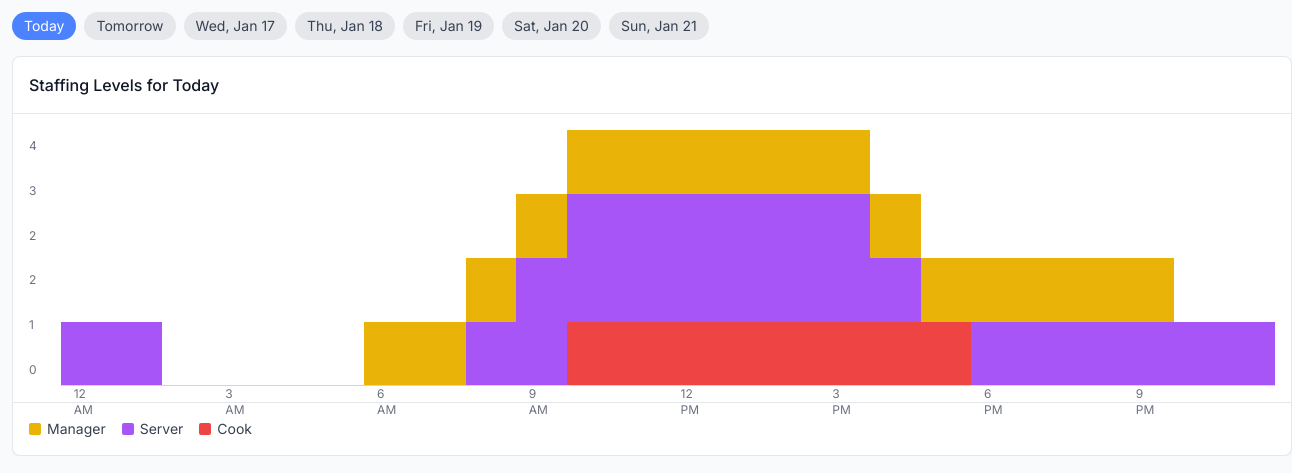
StaffingLevelsView Component › Tooltip Interactions › should show tooltip on hover with hour and role breakdown
This screenshot has width=1292, height=473.
Note: Hover over the segment
Hover over the 12th element with class "relative": (592, 258) [567, 130, 617, 386]
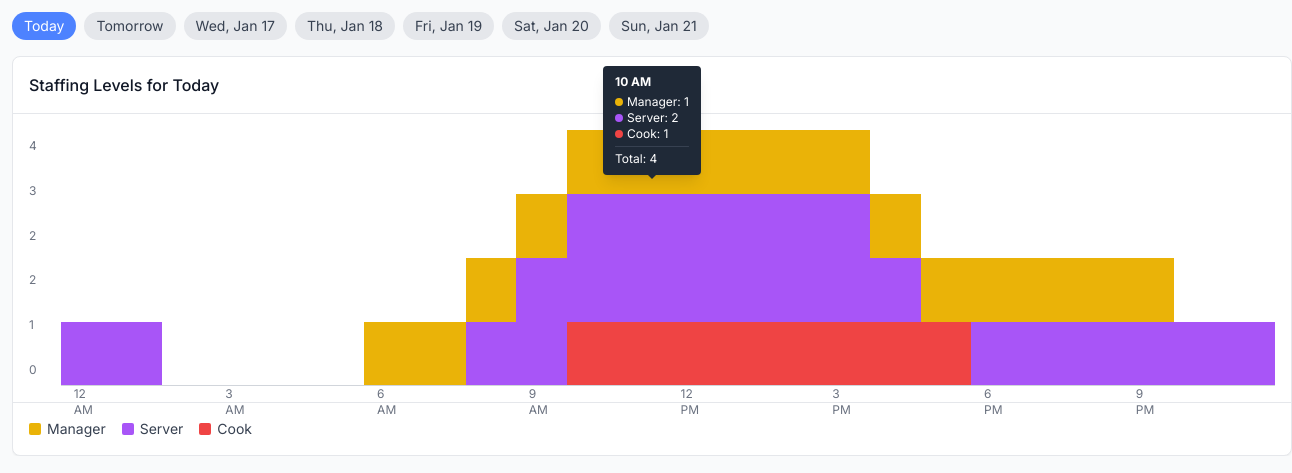
Check: the text "10 AM" is shown, box [615, 74, 651, 89]
Check: the text "Total: 4" is shown, box [615, 146, 689, 167]
